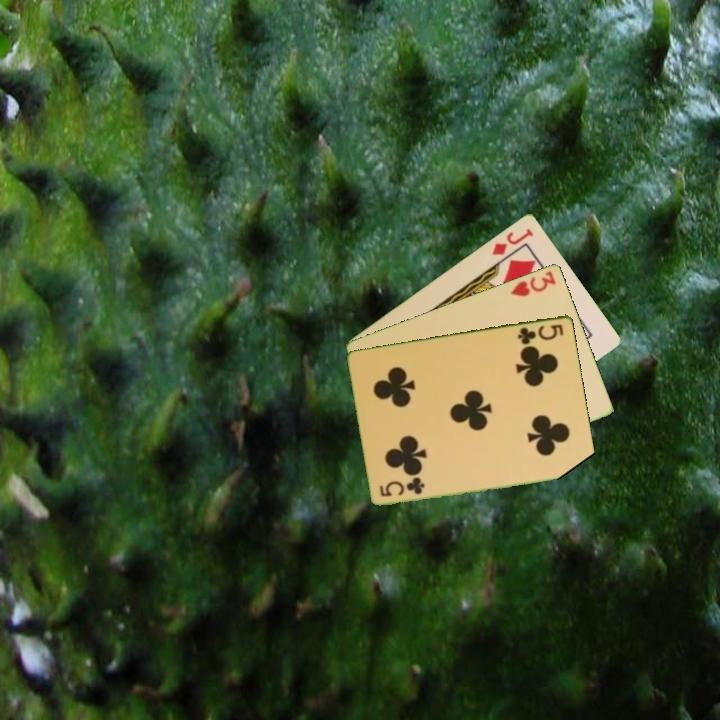3h: (507, 267, 559, 299)
5c: (514, 320, 567, 347), (376, 475, 428, 499)
Jd: (488, 225, 536, 258)
